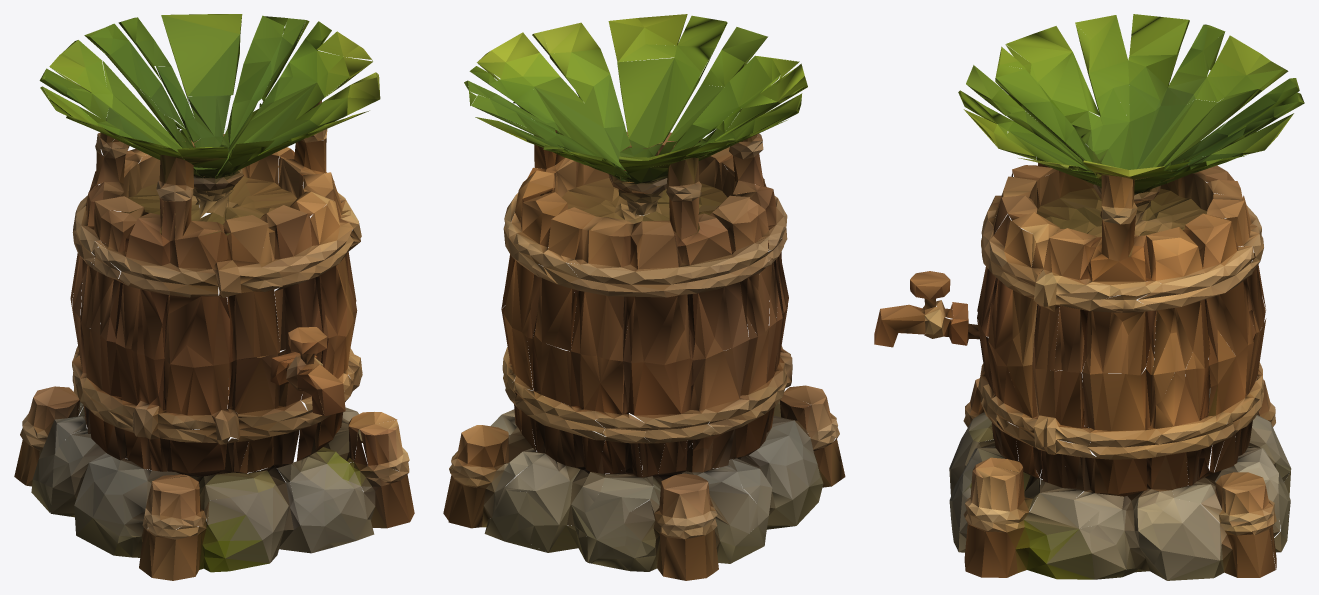
The model's file is building-rainTank.glb.
3 views of the same model, side by side, from view 1: azimuth 30°, elevation 25°; view 2: azimuth 150°, elevation 25°; view 3: azimuth 270°, elevation 25° (orthographic).
Visible parts, largest first — view 1: 0_rainTank; view 2: 0_rainTank; view 3: 0_rainTank.
Boxes of the visible parts, <box> form: 0_rainTank: <box>14,14,414,580</box>; 0_rainTank: <box>443,14,845,580</box>; 0_rainTank: <box>874,14,1304,580</box>.
Bounding box in the file's own units: 1.6 × 2.09 × 1.92.
